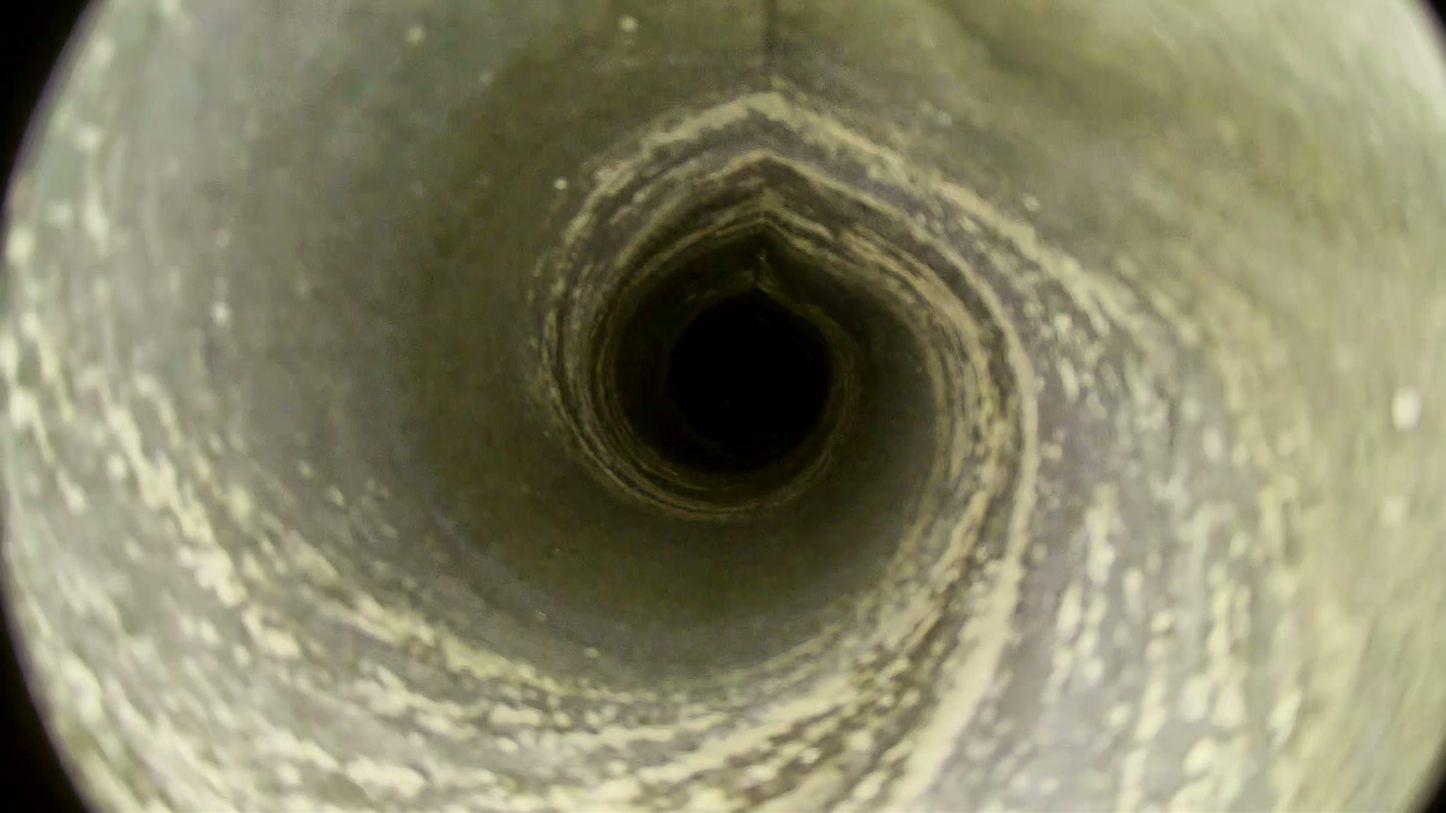hole: (672, 295, 825, 450)
